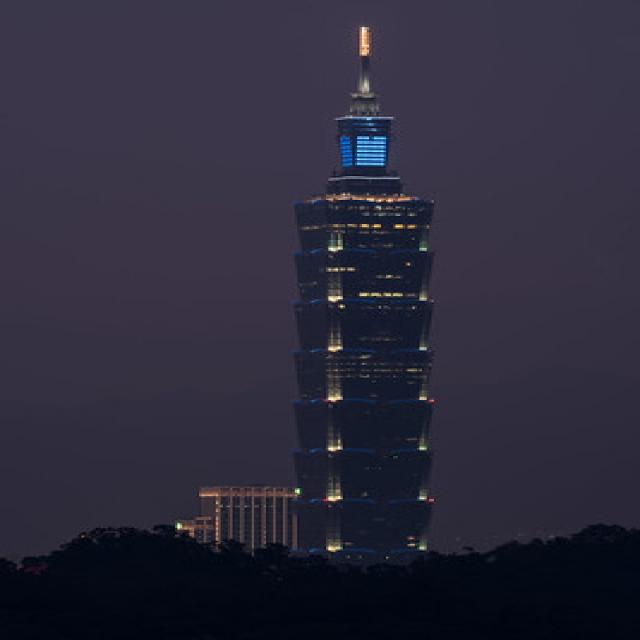Normal_building: (274, 110, 447, 565)
